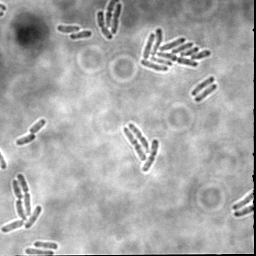Dividing: (14, 118, 47, 147), (122, 127, 146, 162), (127, 122, 150, 154), (141, 138, 160, 174), (96, 10, 113, 41), (104, 0, 120, 28), (110, 3, 123, 35)
Microcolony: (140, 26, 213, 73), (1, 174, 43, 233)
Rod: (191, 75, 215, 97), (194, 83, 218, 103), (32, 240, 59, 251), (69, 29, 93, 40), (56, 24, 81, 34), (24, 248, 54, 255)
